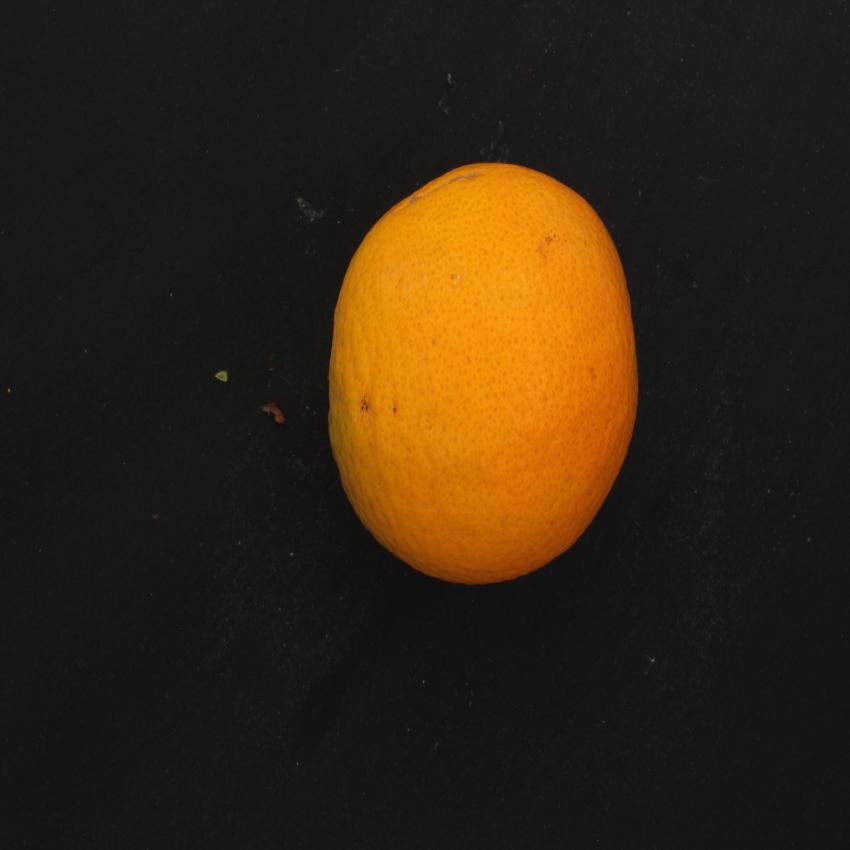Buen estado: (320, 154, 645, 601)
